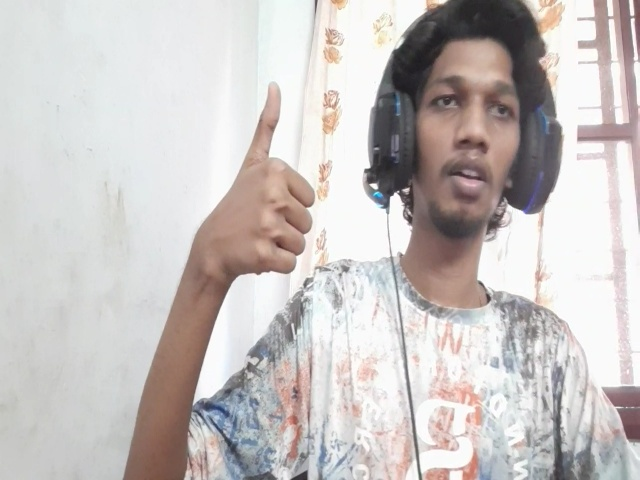ThumbsUp: (201, 81, 316, 278)
